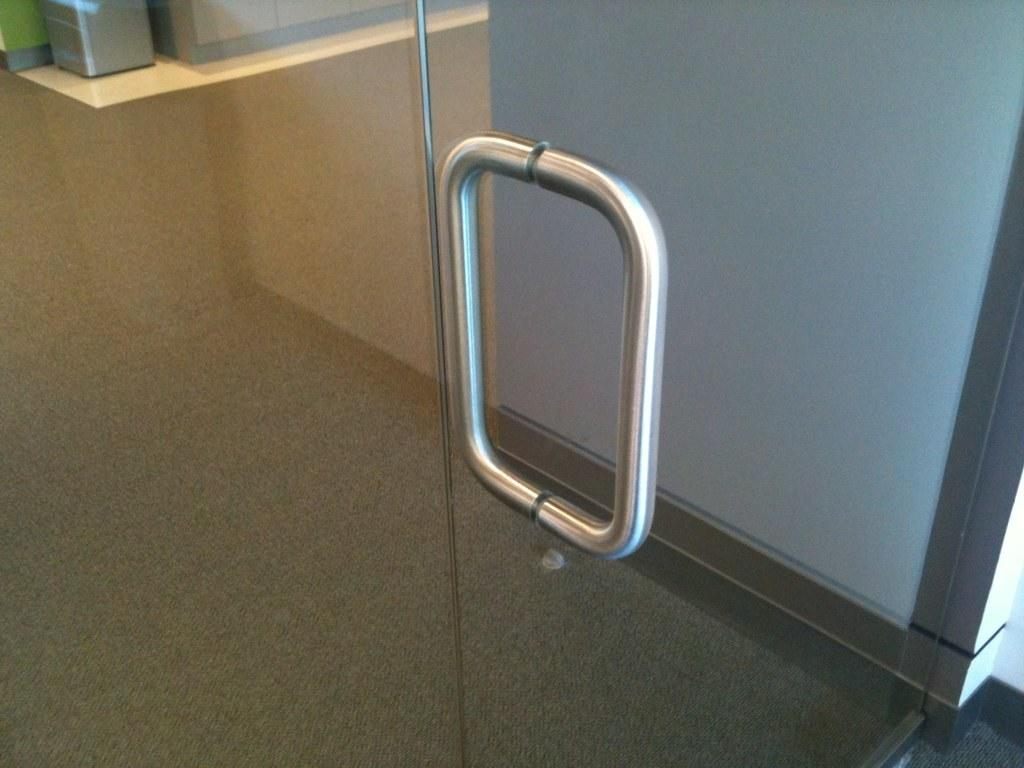handle: (536, 140, 682, 568), (428, 114, 541, 515)
